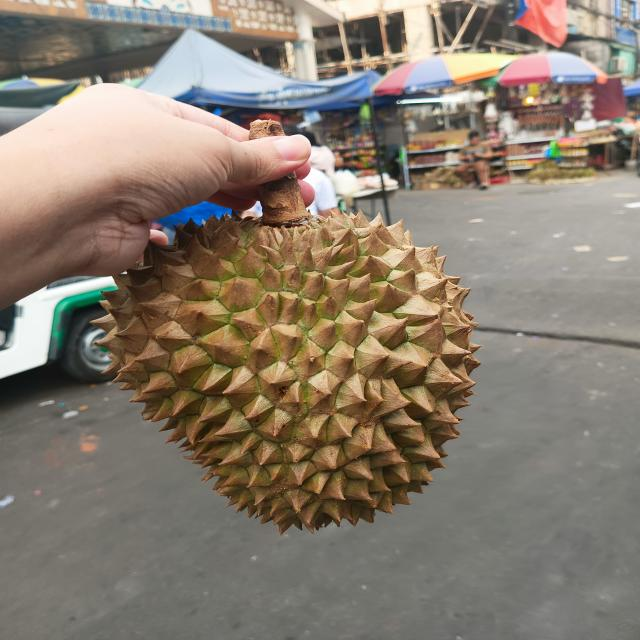mature: (87, 204, 480, 531)
